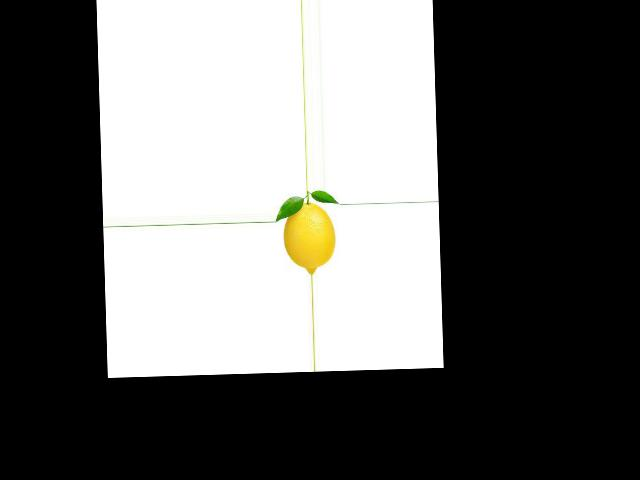lemon: (284, 196, 341, 275)
